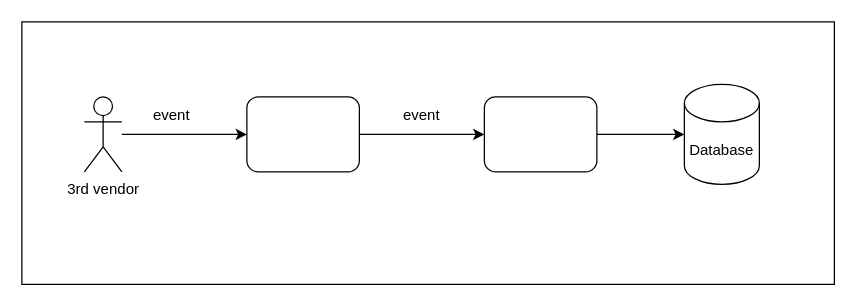
Some shapes in this 856 by 306 pixel diagram are drawn without their labels. The shapes that lost their labels are listed below. From the top down, each one's centre as x and y in pixels, then its label:
point (302, 134): API Gateway
point (540, 134): Request handler
